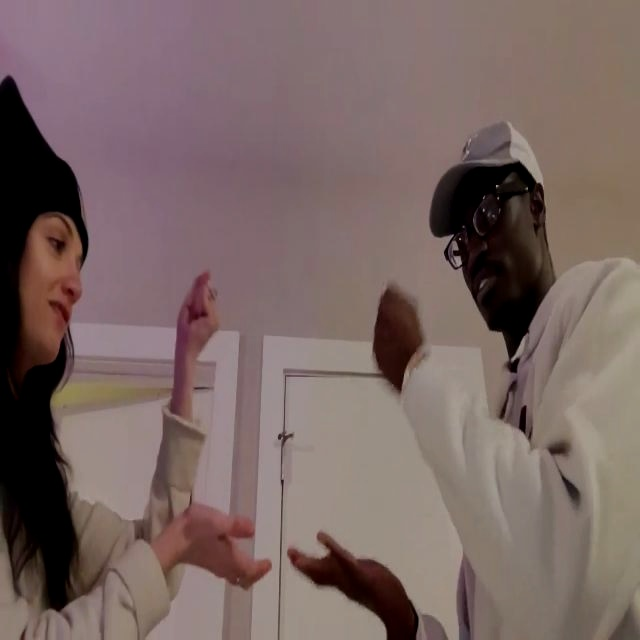Rock: (372, 283, 421, 400), (175, 268, 219, 364)
